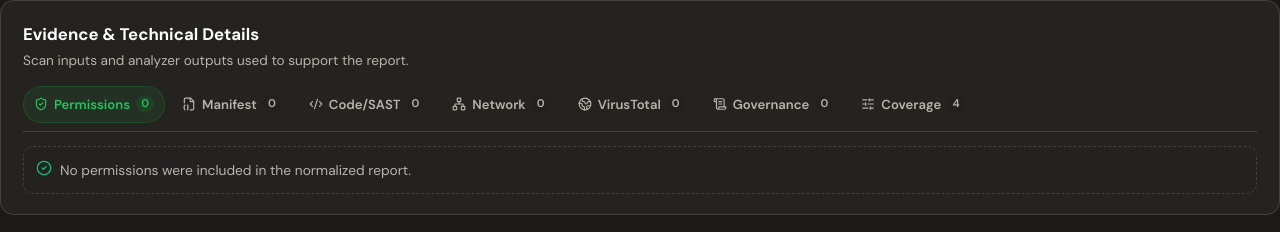
EvidenceTechnicalDetails › shows failed/not-analyzed Code/SAST status when no SAST findings are present
The width and height of the screenshot is (1280, 232).
Click the tab "Code/SAST 0" at (367, 104), box [298,86,435,123]
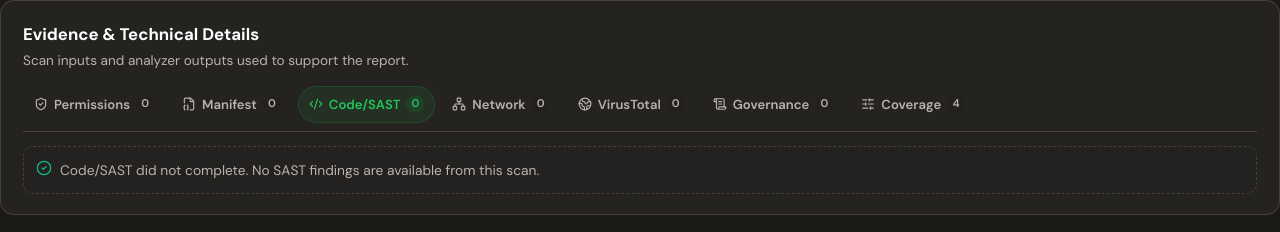
Now the text "Code/SAST did not complete" is shown, box [60,161,539,179]
